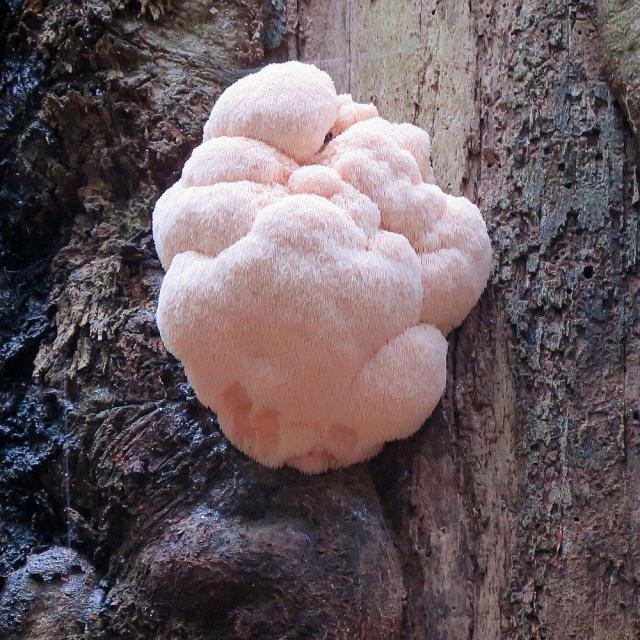Hericium erinaceus: (151, 66, 492, 474)
